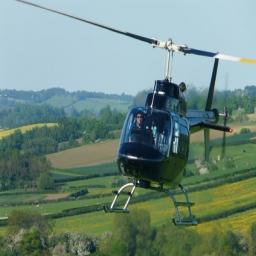helicopter: (70, 32, 214, 234)
